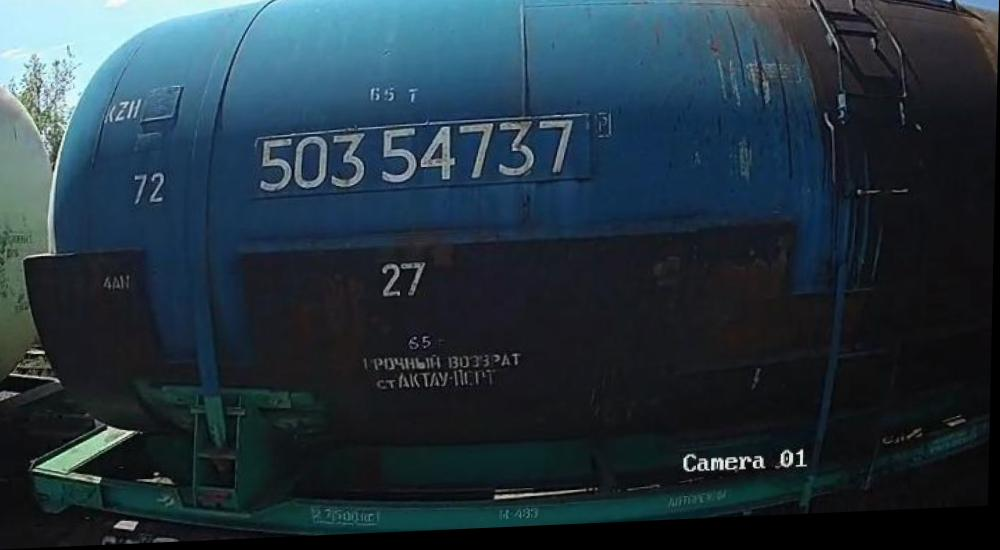Wagon-number: (254, 122, 589, 201)
